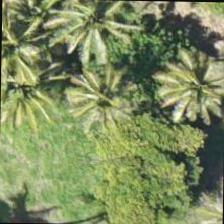Kelapa_Sawit: (60, 50, 152, 142), (144, 46, 223, 139), (41, 0, 133, 74), (0, 51, 66, 143), (0, 5, 50, 96)
